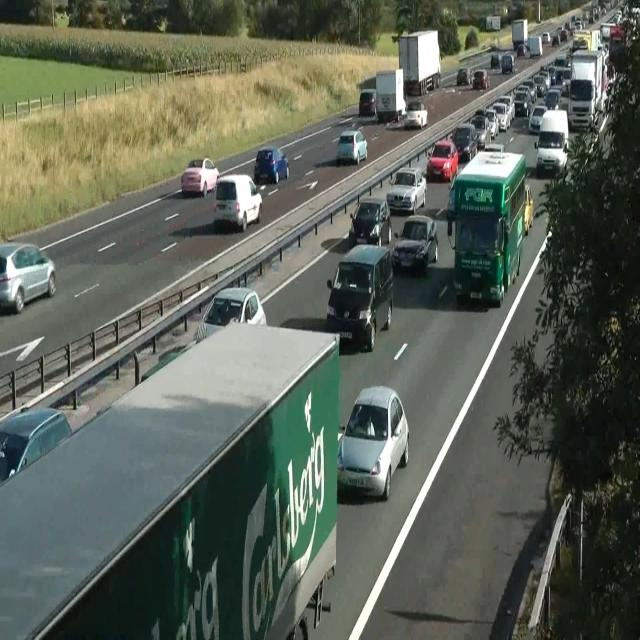bus: (337, 385, 409, 500), (0, 404, 73, 486), (192, 286, 266, 344), (0, 242, 56, 314), (391, 215, 438, 276), (214, 173, 262, 232), (349, 198, 391, 246), (386, 166, 426, 214), (181, 156, 219, 198), (253, 146, 290, 184), (336, 129, 368, 165), (403, 99, 428, 129), (528, 104, 548, 133), (492, 102, 511, 132), (358, 88, 376, 116), (524, 183, 533, 236), (484, 108, 499, 138), (544, 88, 562, 109), (456, 68, 470, 84), (491, 52, 499, 68)
car: (446, 146, 528, 305)
jeep: (326, 243, 394, 351), (534, 108, 569, 176), (567, 78, 596, 131), (426, 138, 458, 181), (450, 122, 478, 161), (471, 68, 489, 90)
minibus: (0, 321, 340, 639), (567, 48, 613, 132), (398, 29, 441, 96), (375, 68, 405, 122), (512, 18, 528, 50), (524, 36, 542, 58), (486, 15, 500, 30)
